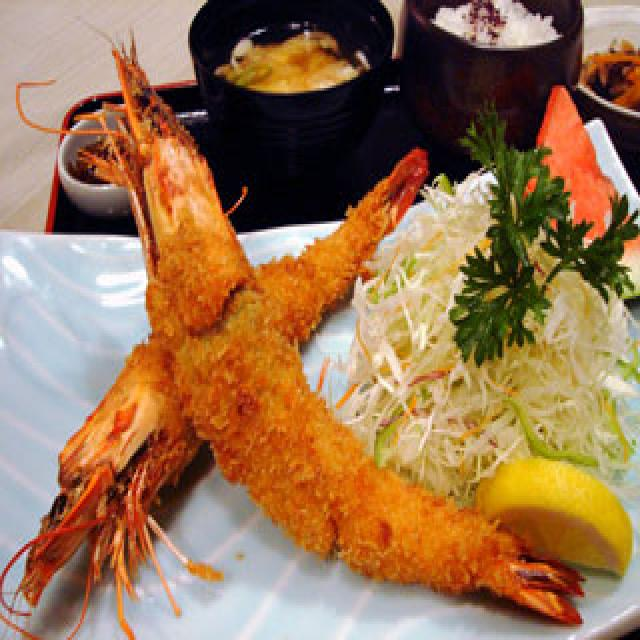炸货点心: (0, 21, 604, 640)
熟制海鲜: (0, 21, 604, 640)
